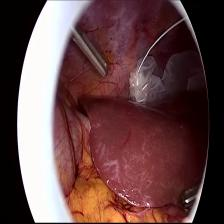Grasper: (72, 25, 108, 81)
Specimen Bag: (128, 45, 204, 108)
